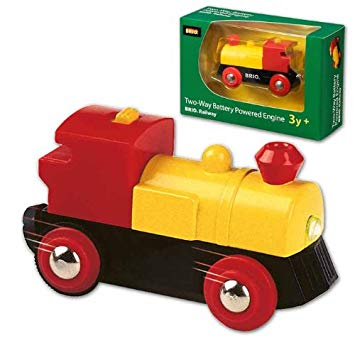brio: (19, 104, 340, 334)
